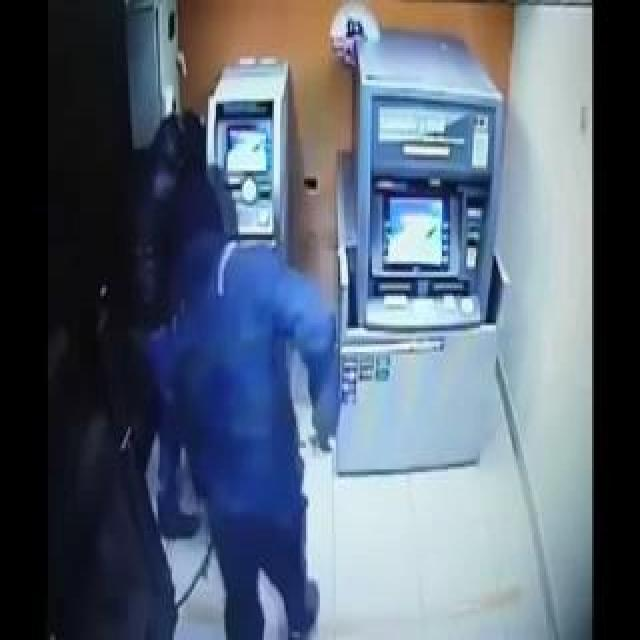thief: (115, 106, 242, 322)
